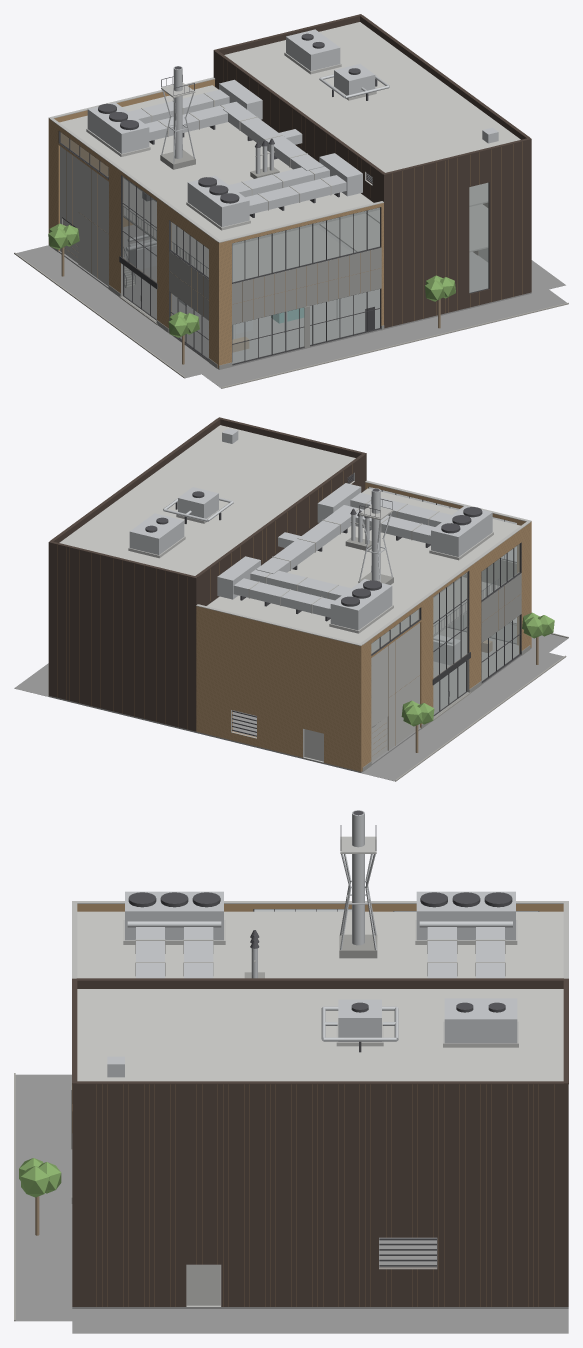
Rendered from clay-energy-centre-clay-v010.glb.
3 renders of one model, top to bottom at view 1: azimuth 30°, elevation 25°; view 2: azimuth 150°, elevation 25°; view 3: azimuth 270°, elevation 25°, orthographic. The views are drawn at different scales.
Visible parts, largest first — view 1: CLAY_MEMBRANE, CLAY_CORTEN, CLAY_FOUNDATION, CLAY_GLASS, CLAY_STEEL, CLAY_WALL, CLAY_FLOOR, CLAY_CONCRETE, CLAY_TRIM, CLAY_JOINT, CLAY_PRECAST, CLAY_PALE (+4 smaller); view 2: CLAY_CORTEN, CLAY_MEMBRANE, CLAY_WALL, CLAY_STEEL, CLAY_FOUNDATION, CLAY_JOINT, CLAY_GLASS, CLAY_PALE, CLAY_PRECAST, CLAY_CONCRETE, CLAY_TRIM, CLAY_HARDWARE (+3 smaller); view 3: CLAY_CORTEN, CLAY_MEMBRANE, CLAY_FOUNDATION, CLAY_STEEL, CLAY_JOINT, CLAY_PALE, CLAY_HARDWARE, CLAY_WALL, CLAY_PLANTING, CLAY_CONCRETE.
Boxes of the visible parts, x1=… form: CLAY_MEMBRANE: x1=59, y1=22, x2=520, y2=240; CLAY_CORTEN: x1=213, y1=14, x2=531, y2=328; CLAY_FOUNDATION: x1=16, y1=225, x2=566, y2=388; CLAY_GLASS: x1=60, y1=132, x2=488, y2=363; CLAY_STEEL: x1=87, y1=29, x2=498, y2=339; CLAY_WALL: x1=48, y1=79, x2=383, y2=368; CLAY_FLOOR: x1=107, y1=174, x2=488, y2=281; CLAY_CONCRETE: x1=50, y1=150, x2=384, y2=369; CLAY_TRIM: x1=58, y1=131, x2=489, y2=365; CLAY_JOINT: x1=50, y1=58, x2=522, y2=363; CLAY_PRECAST: x1=60, y1=146, x2=108, y2=286; CLAY_PALE: x1=48, y1=52, x2=488, y2=288; CLAY_CORTEN: x1=48, y1=417, x2=366, y2=731; CLAY_MEMBRANE: x1=59, y1=425, x2=520, y2=643; CLAY_WALL: x1=196, y1=482, x2=531, y2=771; CLAY_STEEL: x1=129, y1=428, x2=492, y2=665; CLAY_FOUNDATION: x1=14, y1=614, x2=568, y2=781; CLAY_JOINT: x1=57, y1=464, x2=529, y2=770; CLAY_GLASS: x1=369, y1=487, x2=519, y2=714; CLAY_PALE: x1=128, y1=472, x2=531, y2=762; CLAY_PRECAST: x1=371, y1=623, x2=419, y2=762; CLAY_CONCRETE: x1=345, y1=537, x2=530, y2=771; CLAY_TRIM: x1=368, y1=486, x2=521, y2=727; CLAY_HARDWARE: x1=145, y1=473, x2=499, y2=736; CLAY_CORTEN: x1=72, y1=978, x2=568, y2=1306; CLAY_MEMBRANE: x1=77, y1=911, x2=563, y2=1081; CLAY_FOUNDATION: x1=15, y1=1074, x2=568, y2=1333; CLAY_STEEL: x1=107, y1=810, x2=517, y2=1077; CLAY_JOINT: x1=72, y1=1084, x2=554, y2=1306; CLAY_PALE: x1=72, y1=836, x2=568, y2=1306; CLAY_HARDWARE: x1=128, y1=810, x2=512, y2=1266; CLAY_WALL: x1=77, y1=904, x2=563, y2=911; CLAY_PLANTING: x1=19, y1=1158, x2=61, y2=1197; CLAY_CONCRETE: x1=71, y1=934, x2=377, y2=1203.
Bounding box in the file's own units: 44.1 × 23.81 × 38.03.
